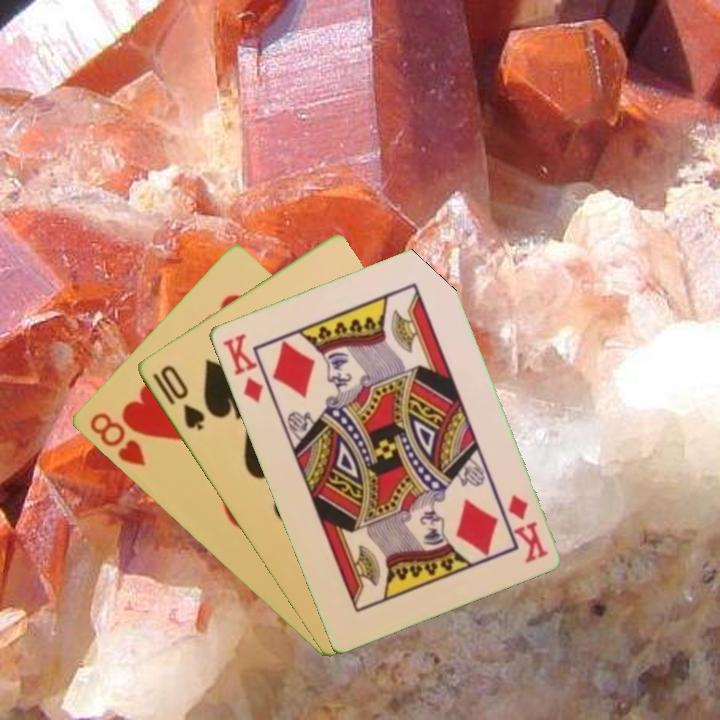10s: (148, 361, 208, 434)
8h: (85, 408, 149, 470)
Kd: (218, 329, 266, 406), (503, 491, 551, 566)
